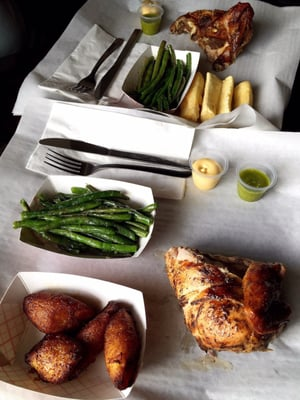sushi: (1, 272, 148, 400)
